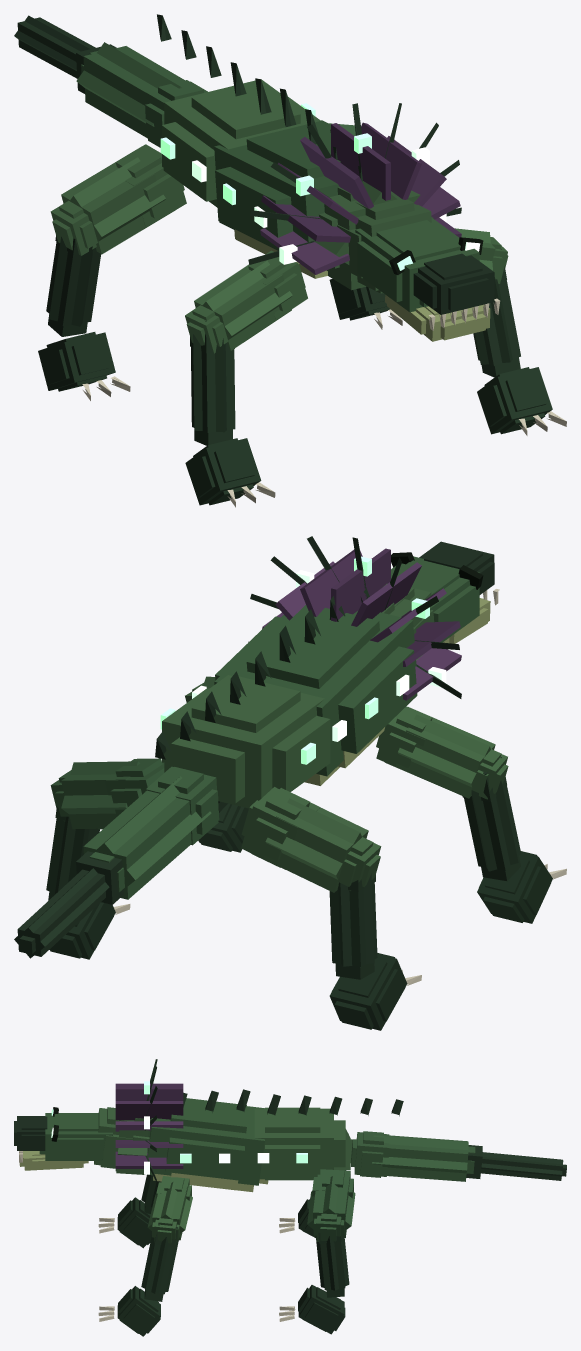
3 views of the same model, one above another, from view 1: azimuth 30°, elevation 25°; view 2: azimuth 150°, elevation 25°; view 3: azimuth 270°, elevation 25° (orthographic). The views are drawn at different scales.
Parts seen in each view (by area): view 1: RiftStalker; view 2: RiftStalker; view 3: RiftStalker.
Part boxes in pixels (<box>): RiftStalker: <box>14,14,566,507</box>; RiftStalker: <box>14,536,566,1030</box>; RiftStalker: <box>14,1059,566,1336</box>.
Size of the model in its own units: 0.7036 by 0.7004 by 1.6.
